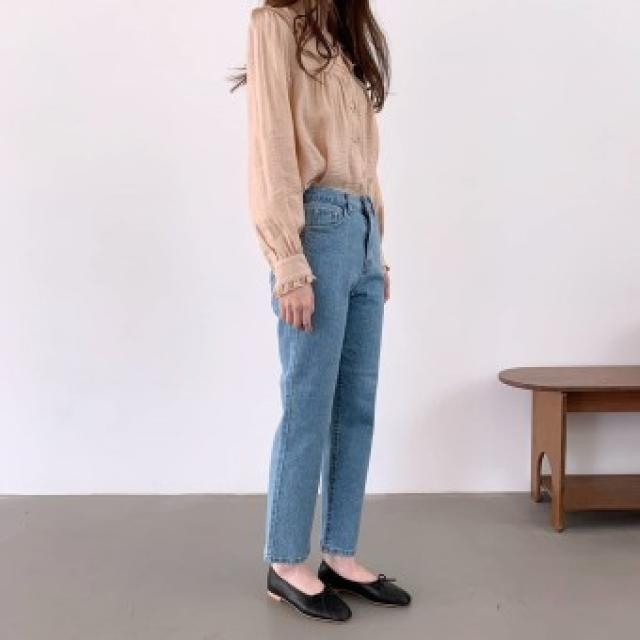no-boots: (260, 561, 360, 636), (333, 563, 427, 606)
